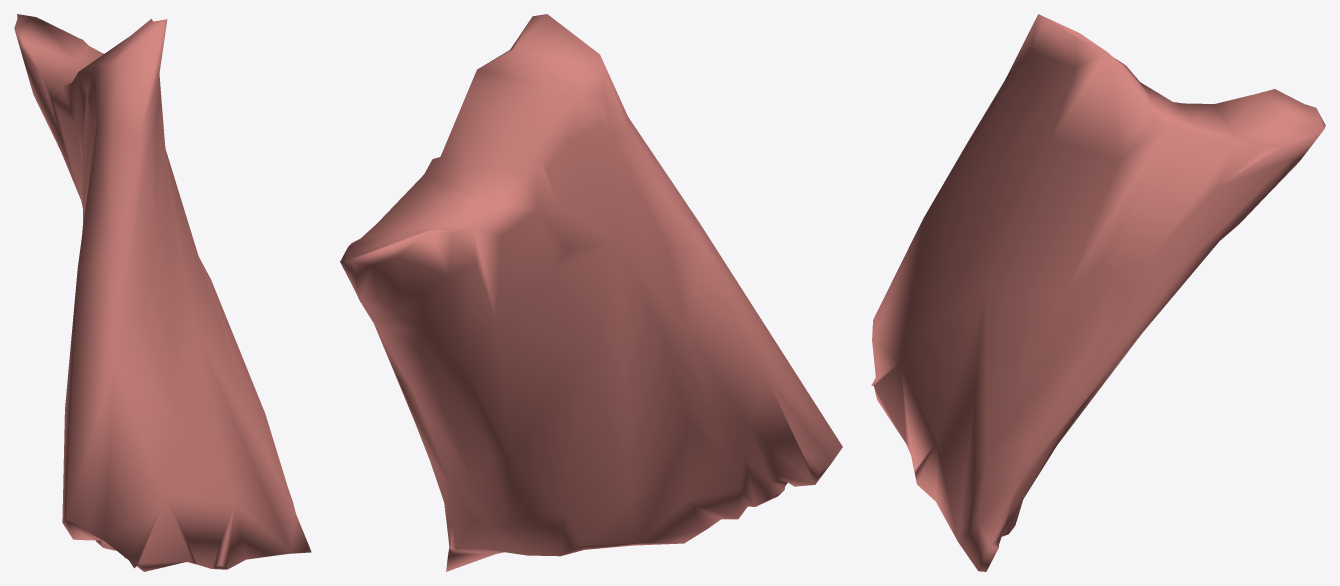
3 views of the same model, side by side, from view 1: azimuth 30°, elevation 25°; view 2: azimuth 150°, elevation 25°; view 3: azimuth 270°, elevation 25° (orthographic). The views are drawn at different scales.
Visible parts, largest first — view 1: ZA_772a142f41a76d3e; view 2: ZA_772a142f41a76d3e; view 3: ZA_772a142f41a76d3e.
Boxes of the visible parts, <box> form: ZA_772a142f41a76d3e: <box>14,14,311,571</box>; ZA_772a142f41a76d3e: <box>340,14,842,571</box>; ZA_772a142f41a76d3e: <box>871,14,1325,571</box>.
Size of the model in its own units: 0.0123 by 0.0213 by 0.0174.
